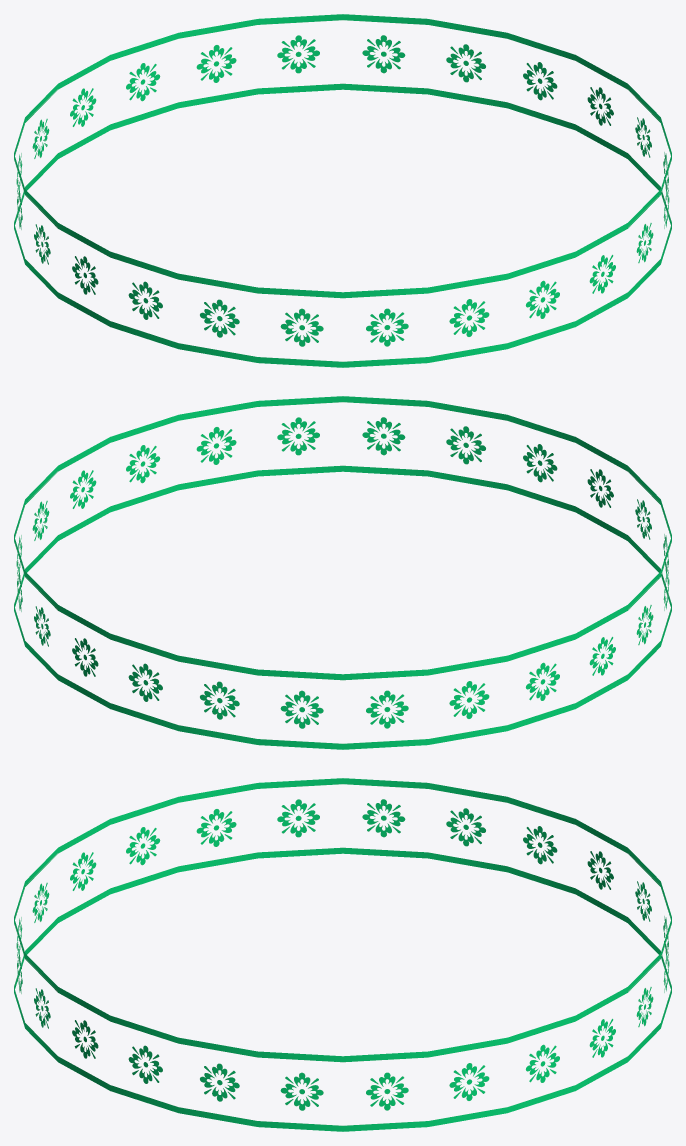
File: Cast Ring.fbx
The picture shows the model from 3 angles, top to bottom: view 1: azimuth 30°, elevation 25°; view 2: azimuth 150°, elevation 25°; view 3: azimuth 270°, elevation 25°; orthographic projection.
Parts seen in each view (by area): view 1: Circle; view 2: Circle; view 3: Circle.
Part boxes in pixels (<box>): Circle: <box>14,14,671,367</box>; Circle: <box>14,396,671,749</box>; Circle: <box>14,778,671,1131</box>.
Size of the model in its own units: 200 by 25.36 by 200.
